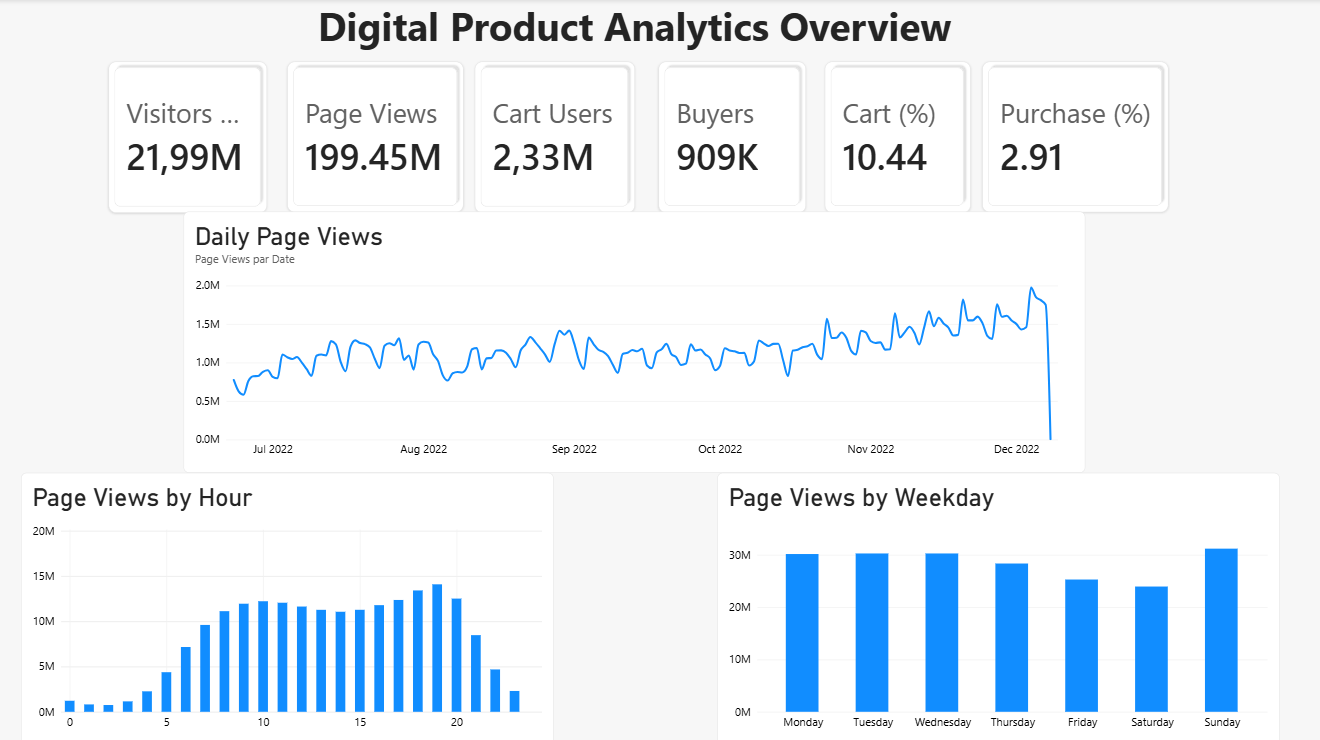

This screenshot's page, from the dashboard's own definition file:
{"tool":"powerbi","page":{"name":"Overview","canvas":[1920,1080],"ordinal":0},"visuals":[{"type":"cardVisual","fields":{"Data":["analytics bi_category_performance.Visitors Display"]},"box":[163.4,90.2,229.3,219.5],"z":0},{"type":"cardVisual","fields":{"Data":["Sum(analytics bi_dashboard_kpis.total_page_views)"]},"box":[422.4,89.8,255.1,218.4],"z":1000},{"type":"cardVisual","fields":{"Data":["analytics bi_category_performance.Cart Users Display"]},"box":[692.7,90.2,231.7,219.5],"z":2000},{"type":"cardVisual","fields":{"Data":["Sum(analytics bi_dashboard_kpis.total_buyers)"]},"box":[959.2,89.8,213.5,218.9],"z":3000},{"type":"cardVisual","fields":{"Data":["Sum(analytics bi_dashboard_kpis.observed_visit_to_cart_rate)"]},"box":[1200,89.8,210.8,218.9],"z":4000},{"type":"cardVisual","fields":{"Data":["Sum(analytics bi_dashboard_kpis.observed_visit_to_purchase_rate)"]},"box":[1428.6,89.8,269.4,218.4],"z":5000},{"type":"lineChart","title":"Daily Page Views","fields":{"Category":["analytics bi_daily_traffic.activity_date"],"Y":["Sum(analytics bi_daily_traffic.page_views)"]},"box":[271.4,308.2,1305.4,378.4],"z":6000},{"type":"clusteredColumnChart","title":"Page Views by Weekday","fields":{"Category":["analytics bi_weekday_pattern.weekday"],"Y":["Sum(analytics bi_weekday_pattern.page_views)"]},"box":[1044.9,685.7,814.3,393.9],"z":7000},{"type":"clusteredColumnChart","title":"Page Views by Hour","fields":{"Category":["analytics bi_hourly_pattern.hour_of_day"],"Y":["Sum(analytics bi_hourly_pattern.page_views)"]},"box":[36.7,685.7,771.4,393.9],"z":8000},{"type":"textbox","title":"Digital Product Analytics Overview","box":[81.6,0,1685.7,89.8],"z":9000}]}

Visuals, with their boxes in screenshot pixels (x1, y1, x2, y2), scaled from the page's 1920x1080 canvas onto the 1320x740 screenshot:
cardVisual - analytics bi_category_performance.Visitors Display: 112/62/270/212
cardVisual - Sum(analytics bi_dashboard_kpis.total_page_views): 290/62/466/211
cardVisual - analytics bi_category_performance.Cart Users Display: 476/62/636/212
cardVisual - Sum(analytics bi_dashboard_kpis.total_buyers): 659/62/806/212
cardVisual - Sum(analytics bi_dashboard_kpis.observed_visit_to_cart_rate): 825/62/970/212
cardVisual - Sum(analytics bi_dashboard_kpis.observed_visit_to_purchase_rate): 982/62/1167/211
"Daily Page Views" lineChart: 187/211/1084/470
"Page Views by Weekday" clusteredColumnChart: 718/470/1278/739
"Page Views by Hour" clusteredColumnChart: 25/470/556/739
"Digital Product Analytics Overview" textbox: 56/0/1215/62
